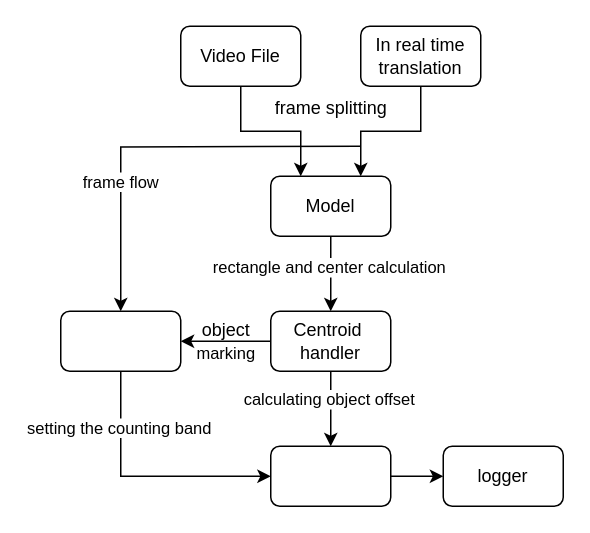
Image size: 590x533. Some labels were removed from this diagram. The shapes that lost their labels are listed below. From the top down, each one's centre as x and y in pixels, then its label:
point (120, 340): Visualizer
point (330, 475): People counter
